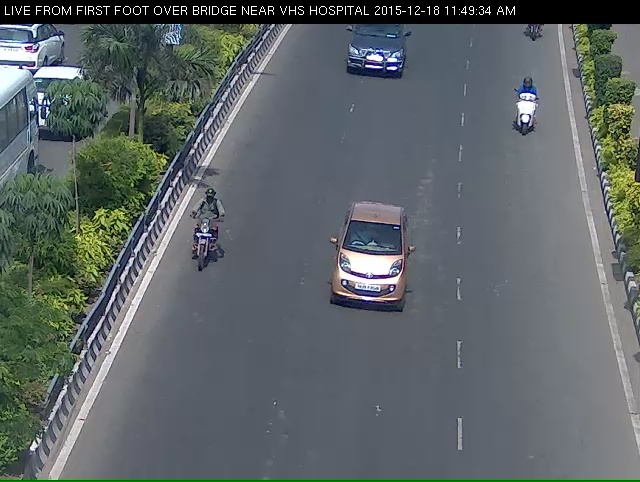Car: (326, 214, 413, 340), (336, 24, 411, 93)
Person: (180, 200, 221, 289), (511, 80, 543, 149), (515, 24, 551, 52)
